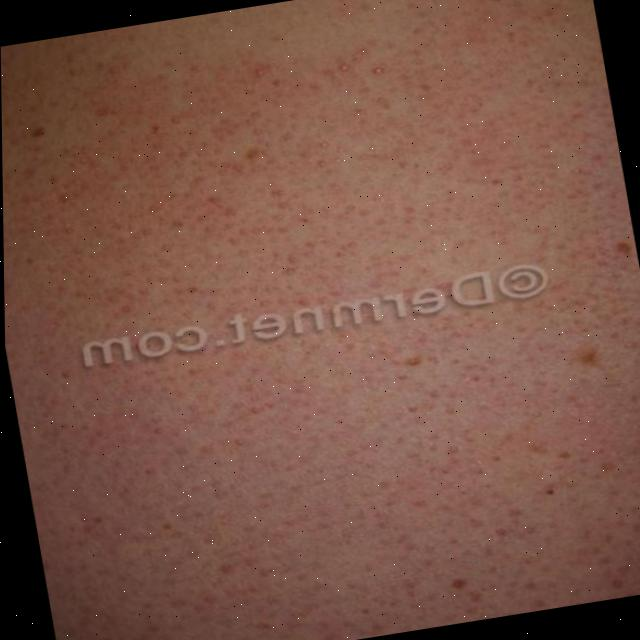Eczema: (1, 44, 640, 605)
